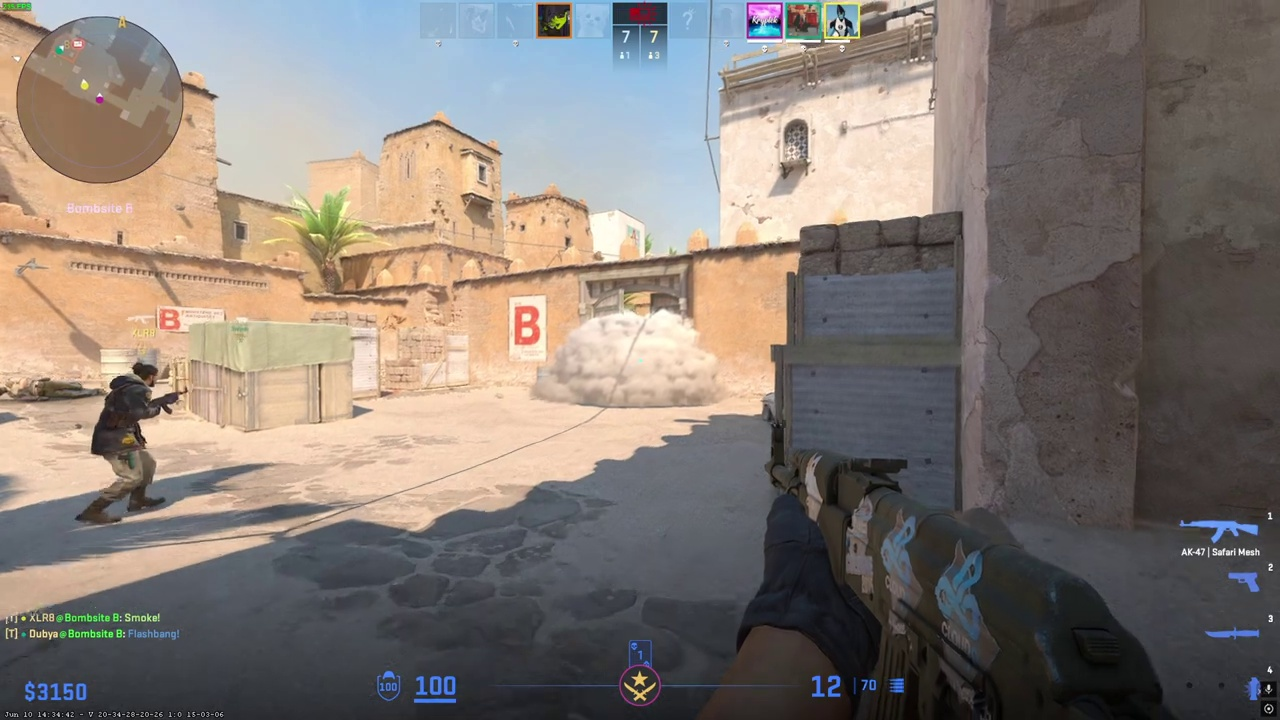Terrorist: (84, 362, 168, 525)
